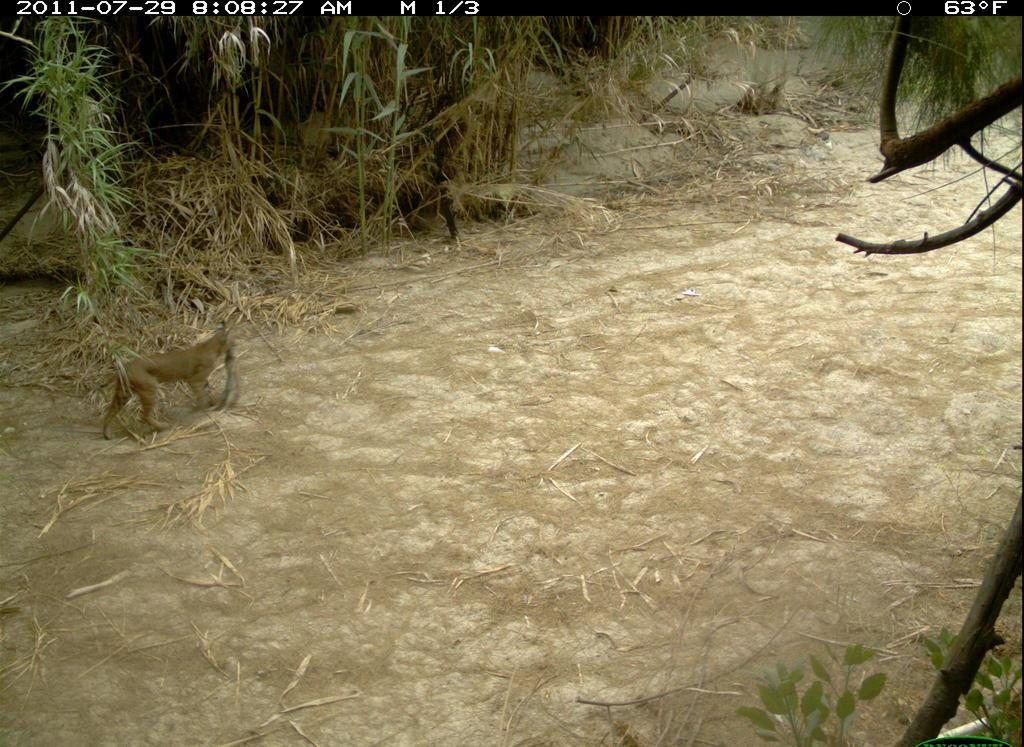rabbit: (209, 344, 248, 418)
